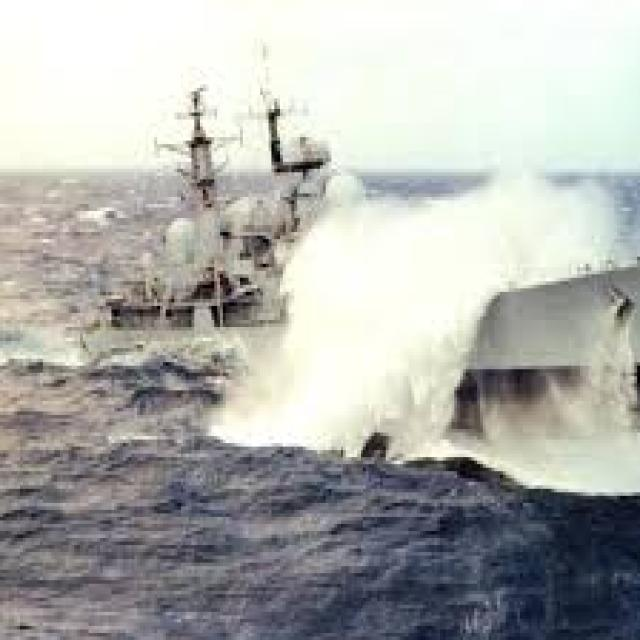navalvessels: (91, 81, 640, 439)
